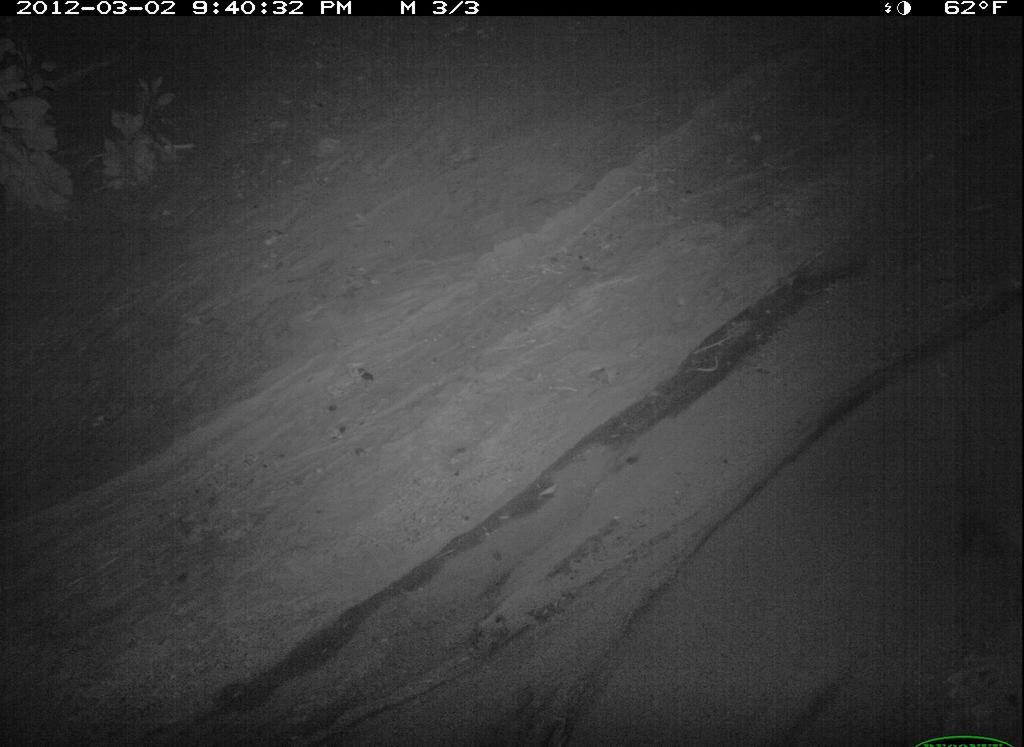opossum: (4, 6, 1024, 747)
